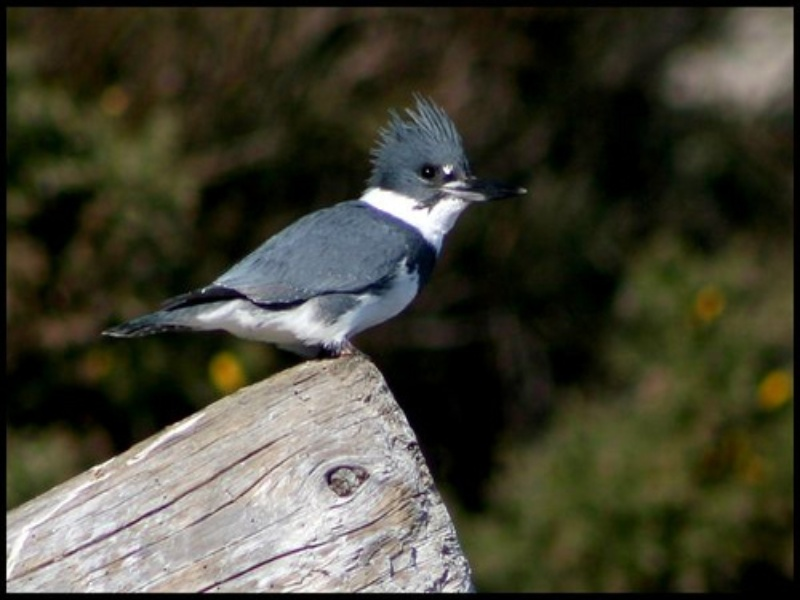kingfisher: (90, 88, 534, 386)
